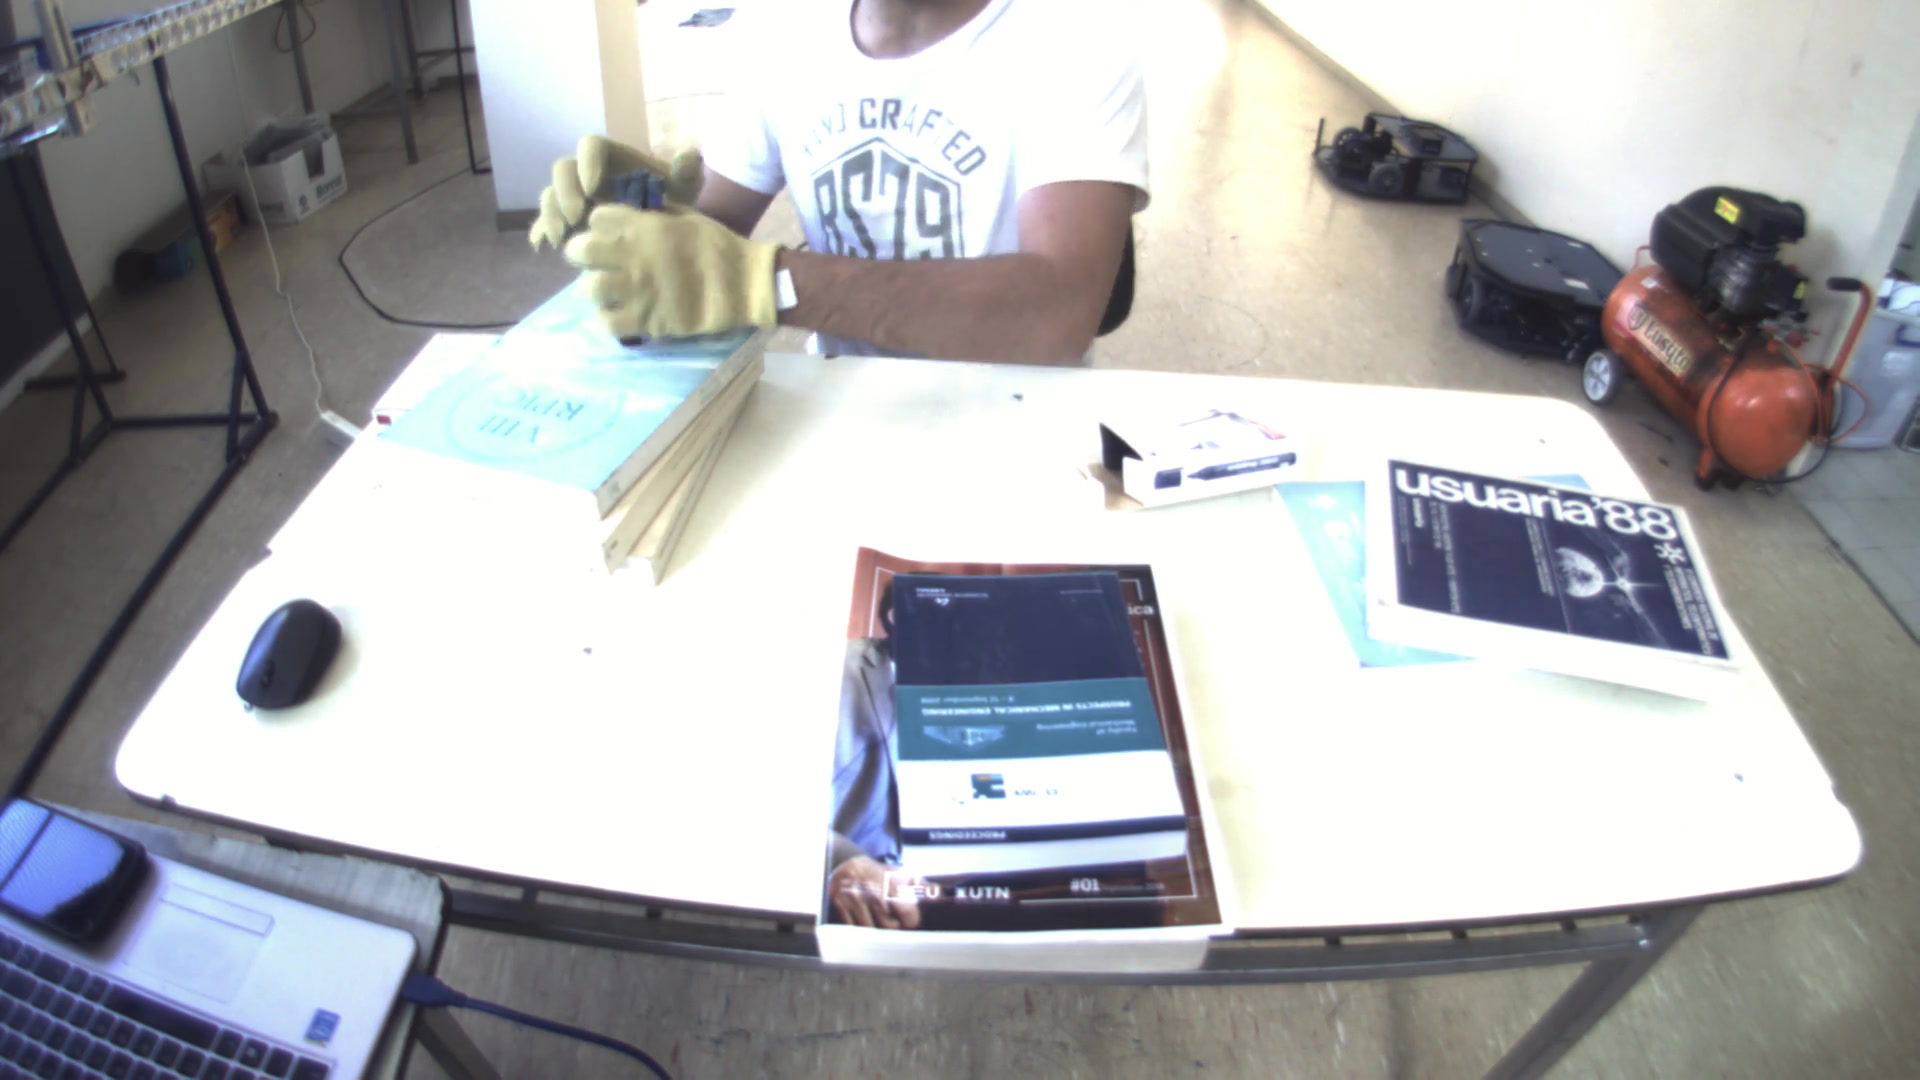hand: (568, 199, 790, 353), (512, 131, 703, 235)
